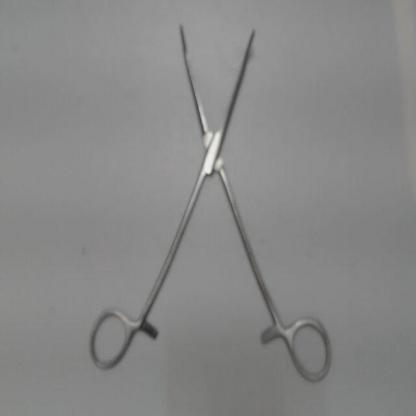Lahey Forceps: (84, 16, 338, 389)
